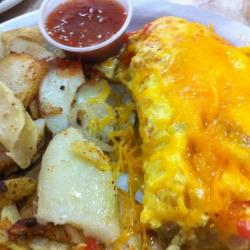ketchup: (42, 1, 133, 59)
omelette: (129, 15, 250, 239)
